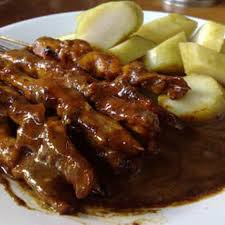sate: (1, 27, 196, 212)
